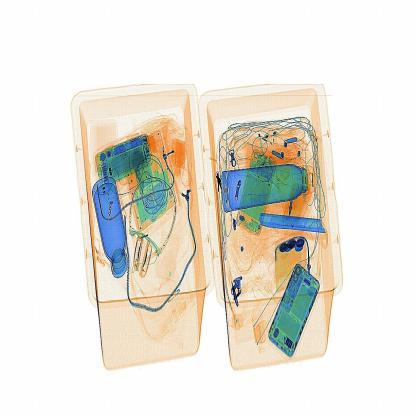pliers: (259, 209, 329, 240)
